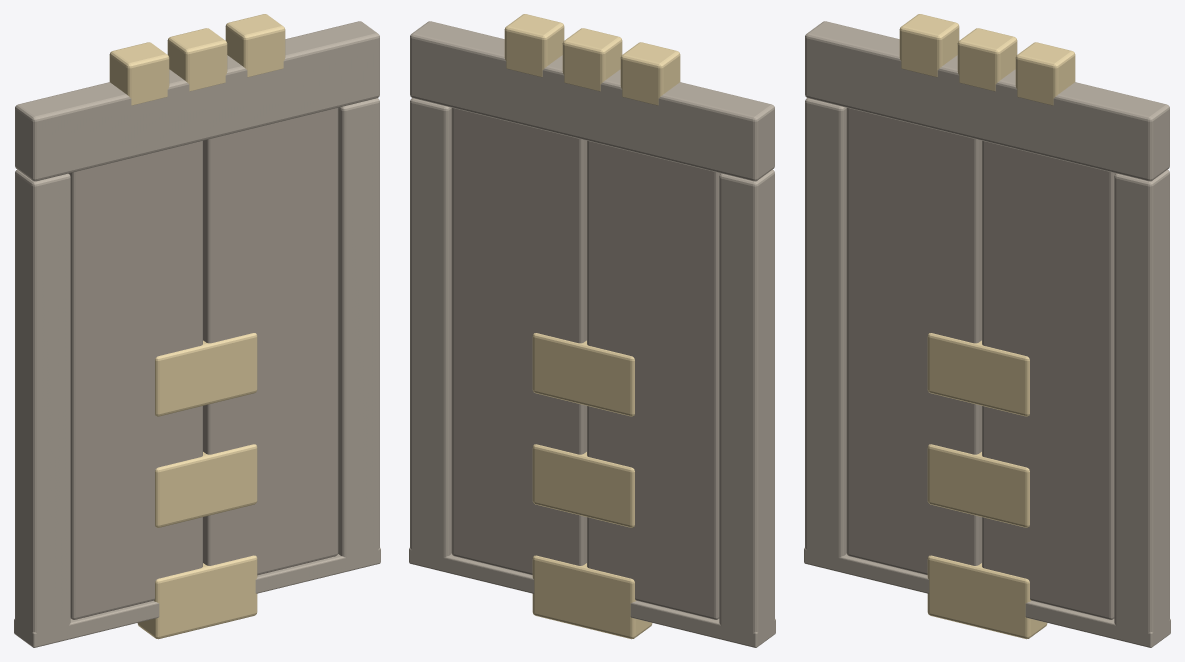
Rendered from 25-Ruinas-Templos_puerta_templo.glb.
The picture shows the model from 3 angles, left to right: view 1: azimuth 30°, elevation 25°; view 2: azimuth 150°, elevation 25°; view 3: azimuth 330°, elevation 25°; orthographic projection.
Visible parts, largest first — view 1: SM_Puerta_Hoja_I, SM_Puerta_Hoja_D, SM_Puerta_Jamba_I, SM_Puerta_Dintel, SM_Puerta_Jamba_D, SM_Puerta_Umbral, SM_Puerta_Glifo_1, SM_Puerta_Glifo_2, SM_Puerta_Glifo_3; view 2: SM_Puerta_Hoja_I, SM_Puerta_Hoja_D, SM_Puerta_Jamba_I, SM_Puerta_Dintel, SM_Puerta_Jamba_D, SM_Puerta_Umbral, SM_Puerta_Glifo_1, SM_Puerta_Glifo_2, SM_Puerta_Glifo_3; view 3: SM_Puerta_Hoja_I, SM_Puerta_Hoja_D, SM_Puerta_Jamba_D, SM_Puerta_Dintel, SM_Puerta_Jamba_I, SM_Puerta_Umbral, SM_Puerta_Glifo_3, SM_Puerta_Glifo_2, SM_Puerta_Glifo_1.
Part boxes in pixels (x1,y1,x2,y2): SM_Puerta_Hoja_I: (68, 141, 257, 639); SM_Puerta_Hoja_D: (203, 108, 338, 575); SM_Puerta_Jamba_I: (15, 169, 70, 644); SM_Puerta_Dintel: (15, 21, 379, 181); SM_Puerta_Jamba_D: (338, 98, 379, 568); SM_Puerta_Umbral: (14, 548, 380, 647); SM_Puerta_Glifo_1: (109, 42, 169, 105); SM_Puerta_Glifo_2: (167, 28, 227, 91); SM_Puerta_Glifo_3: (225, 14, 285, 77); SM_Puerta_Hoja_I: (532, 141, 721, 639); SM_Puerta_Hoja_D: (451, 108, 586, 575); SM_Puerta_Jamba_I: (719, 169, 774, 644); SM_Puerta_Dintel: (410, 21, 774, 181); SM_Puerta_Jamba_D: (410, 98, 451, 567); SM_Puerta_Umbral: (409, 548, 775, 647); SM_Puerta_Glifo_1: (620, 42, 680, 105); SM_Puerta_Glifo_2: (562, 28, 622, 91); SM_Puerta_Glifo_3: (504, 14, 564, 77); SM_Puerta_Hoja_I: (846, 108, 1047, 639); SM_Puerta_Hoja_D: (982, 141, 1116, 619); SM_Puerta_Jamba_D: (1114, 169, 1169, 644); SM_Puerta_Dintel: (805, 21, 1169, 181); SM_Puerta_Jamba_I: (805, 98, 846, 567); SM_Puerta_Umbral: (804, 548, 1170, 647); SM_Puerta_Glifo_3: (1015, 42, 1075, 105); SM_Puerta_Glifo_2: (957, 28, 1017, 91); SM_Puerta_Glifo_1: (899, 14, 959, 77).
Bounding box in the file's own units: 1.8 × 2.88 × 0.181.
